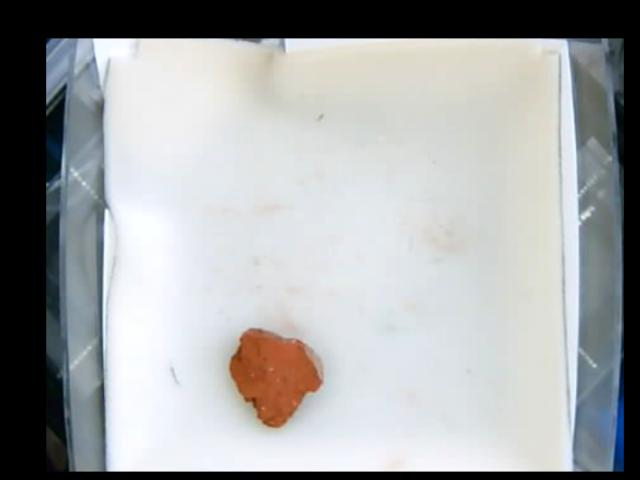Brisk: (231, 325, 324, 427)
